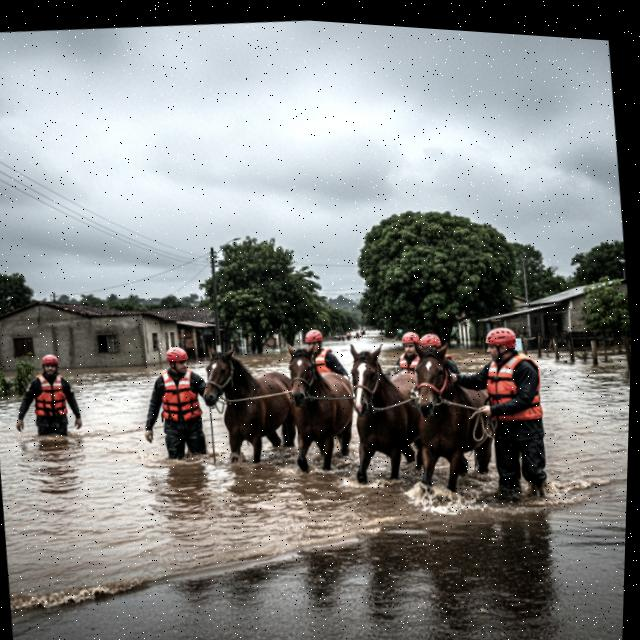horse: (397, 340, 501, 497), (338, 330, 432, 502), (188, 341, 301, 468), (277, 336, 365, 484)
rescuer: (447, 319, 562, 515), (136, 338, 216, 469), (12, 344, 90, 452), (294, 324, 351, 384), (387, 326, 427, 381), (413, 327, 459, 372)
